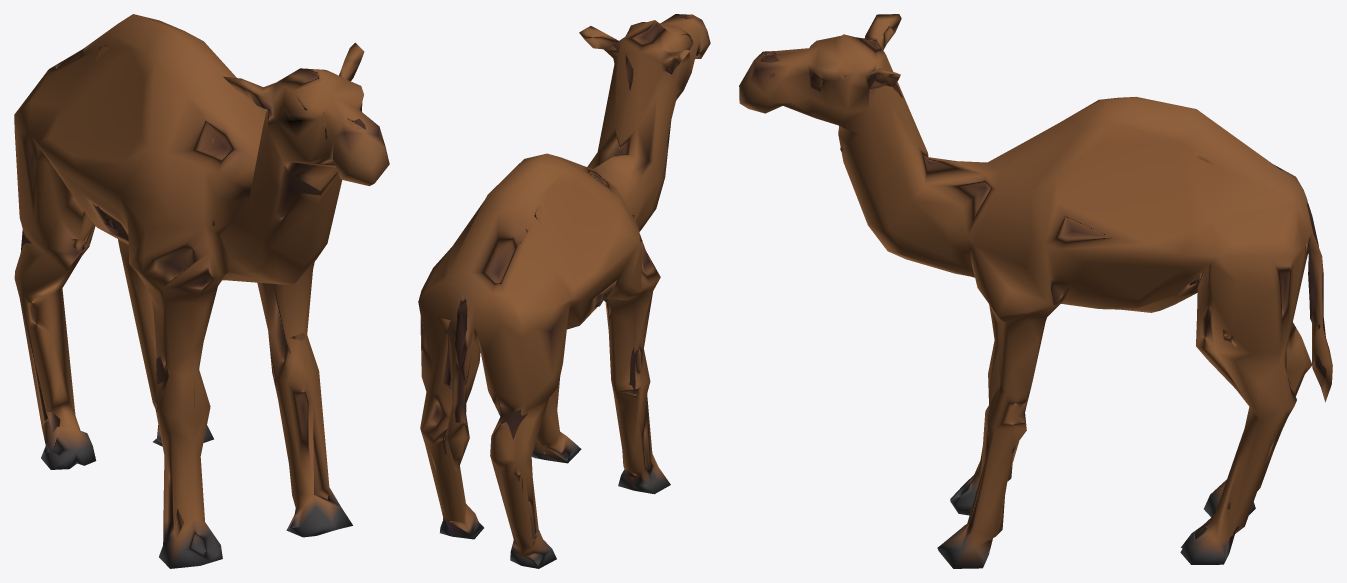
Rendered from gen3d-camel-lod0.glb.
The picture shows the model from 3 angles, left to right: view 1: azimuth 30°, elevation 25°; view 2: azimuth 150°, elevation 25°; view 3: azimuth 270°, elevation 25°; orthographic projection. The views are drawn at different scales.
Visible parts, largest first — view 1: part_0; view 2: part_0; view 3: part_0.
Boxes of the visible parts, left/top/right/bottom form: part_0: left=14, top=14, right=389, bottom=568; part_0: left=418, top=14, right=710, bottom=568; part_0: left=739, top=14, right=1332, bottom=568.
Bounding box in the file's own units: 0.3612 × 1 × 1.08.
